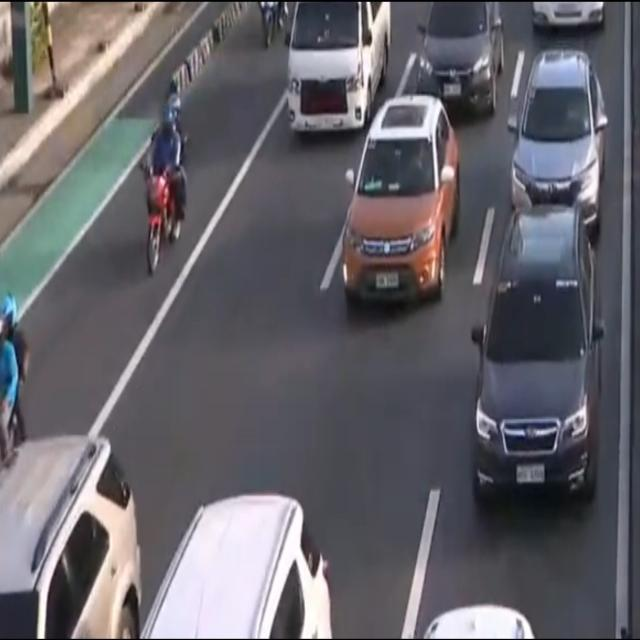Motorcycle: (140, 92, 187, 277), (0, 288, 28, 470)
SUV: (473, 206, 604, 514), (137, 490, 339, 640), (0, 435, 141, 640)
Sedan: (340, 96, 459, 307), (509, 49, 604, 234), (413, 0, 505, 121)
Van: (287, 0, 389, 135)
